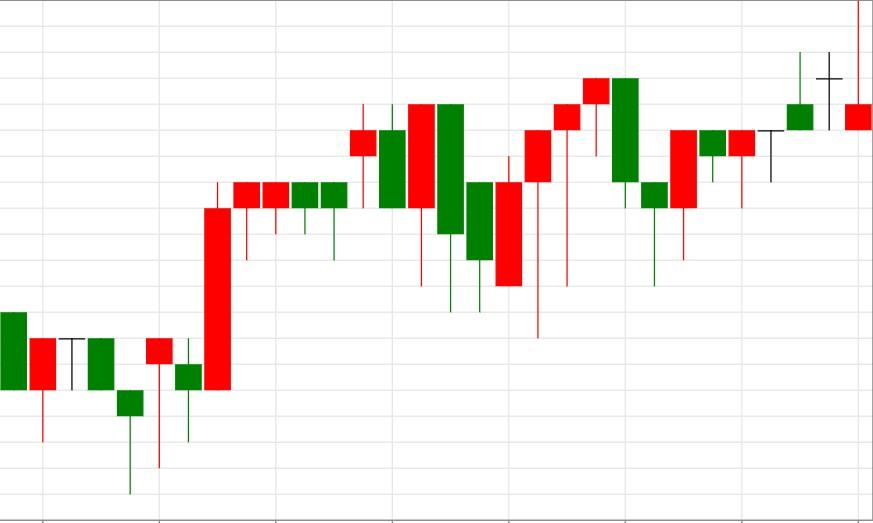bearish_engulfing_fall: (175, 104, 464, 442), (175, 104, 407, 441), (495, 78, 639, 339)
hammer_rise: (0, 312, 144, 493), (582, 78, 669, 287)
three_white_soldiers_rise: (406, 103, 581, 339)
